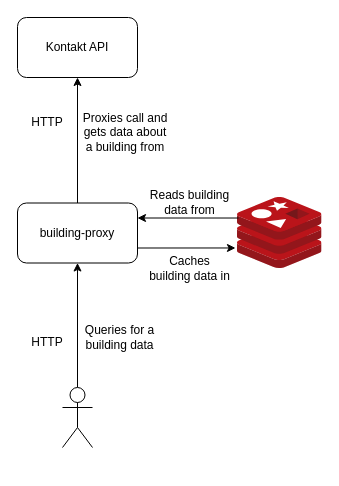
The diagram is 339 pixels wide and 486 high, and some of its shapes have lost their labels. The shapes that lost their labels are listed below. From the top down, each one's centre as x and y in pixels, then its label:
the point at 279,232: Redis
the point at 77,417: User
